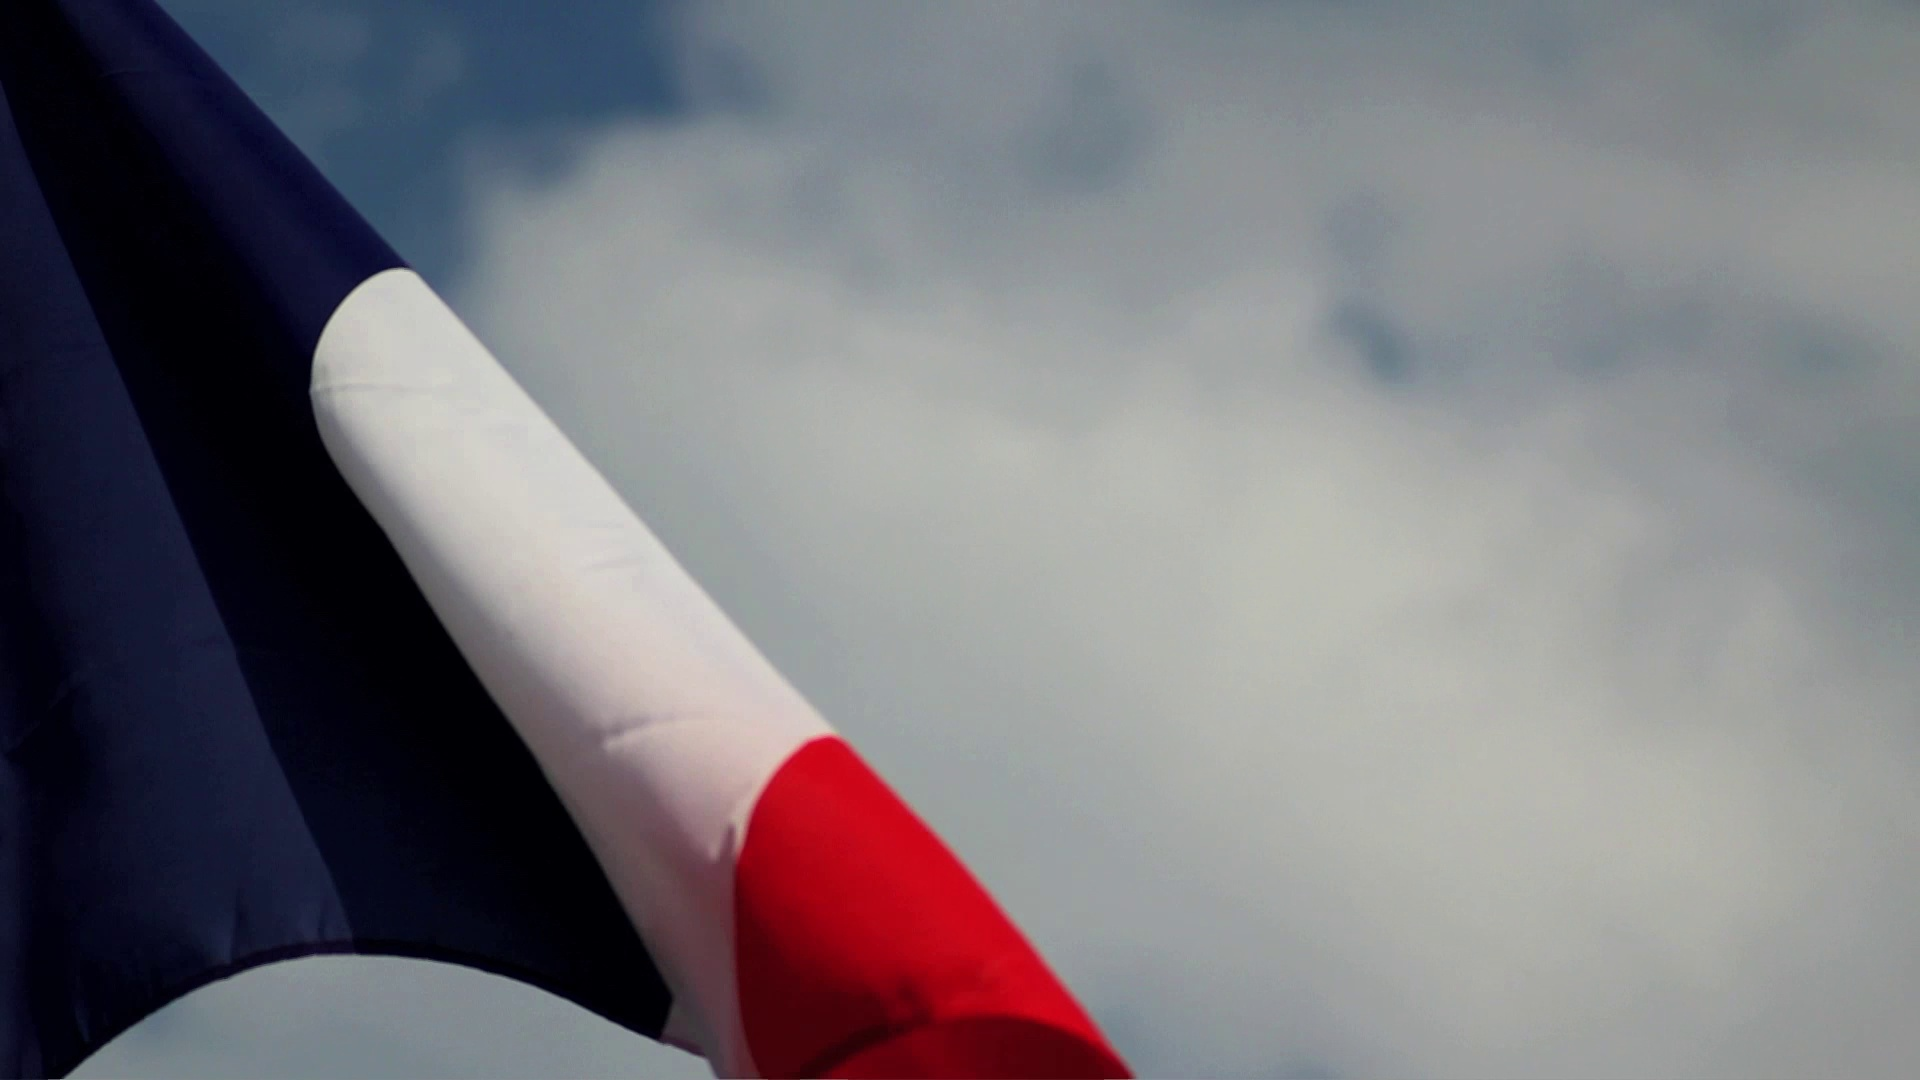French Flag: (1, 1, 1131, 1076)
